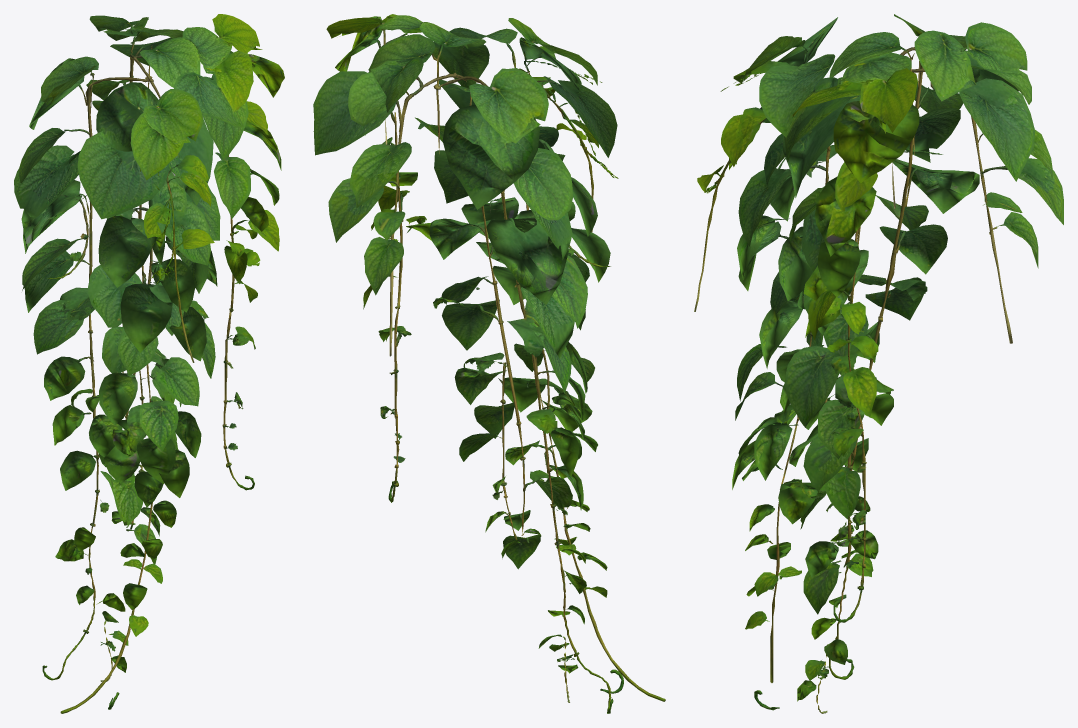
The model's file is vine_with_branch_3d_model_free.glb.
The picture shows the model from 3 angles, left to right: view 1: azimuth 30°, elevation 25°; view 2: azimuth 150°, elevation 25°; view 3: azimuth 270°, elevation 25°; orthographic projection. The views are drawn at different scales.
Visible parts, largest first — view 1: Model_0; view 2: Model_0; view 3: Model_0.
Boxes of the visible parts, x1,y1,x2,y2 form: Model_0: (14, 14, 284, 713); Model_0: (313, 14, 665, 713); Model_0: (694, 14, 1063, 713).
Size of the model in its own units: 0.4305 by 1 by 0.456.
1 material, 1 textured.
